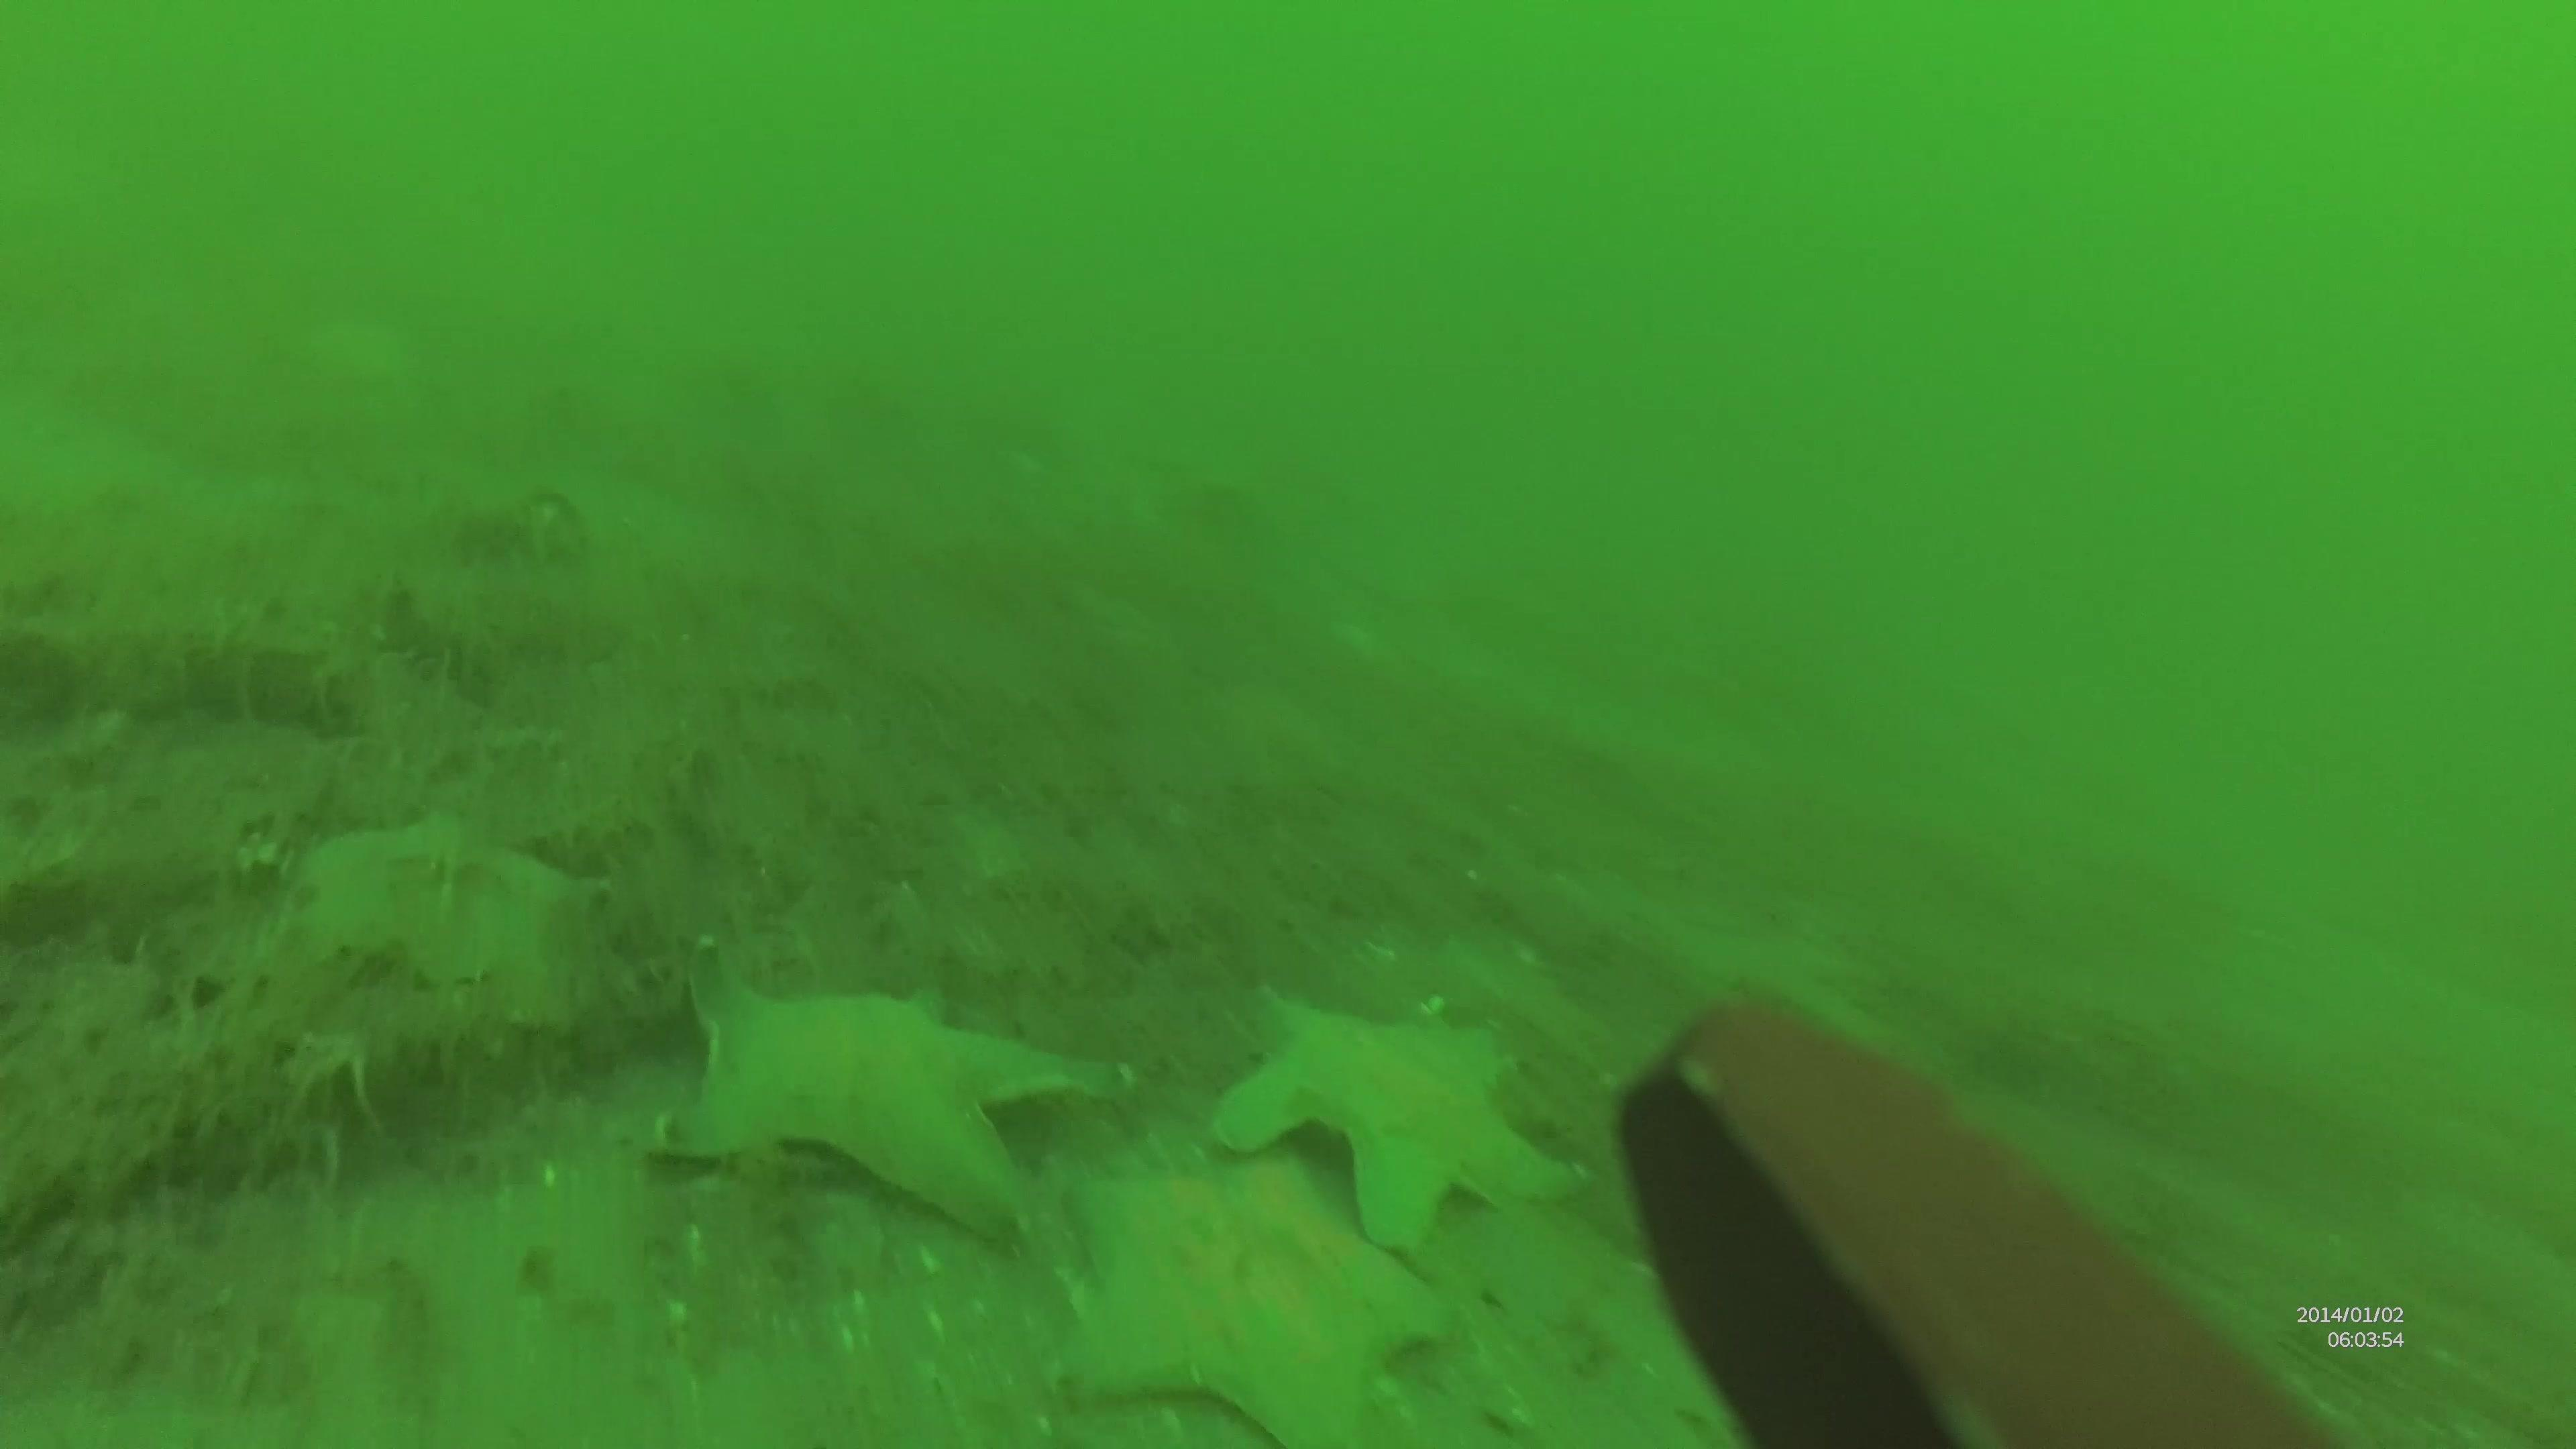starfish: (655, 936, 1125, 1247), (1037, 1146, 1468, 1447), (1226, 994, 1580, 1254), (308, 814, 616, 1028)
